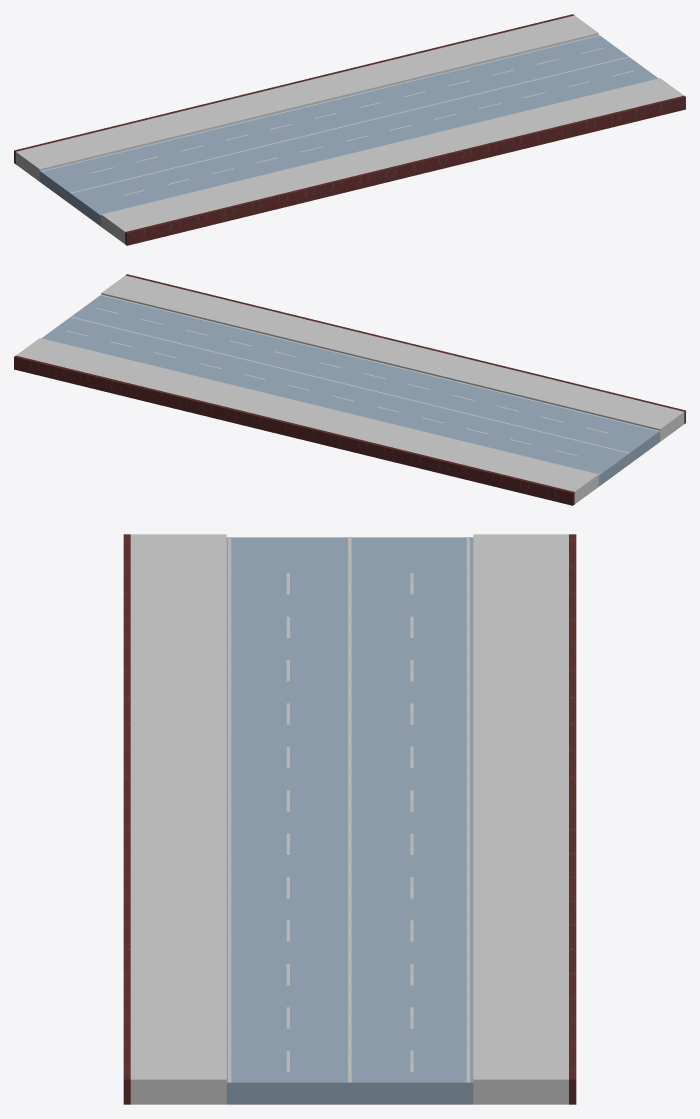
The model's file is Bridge_002.fbx.
The picture shows the model from 3 angles, top to bottom: view 1: azimuth 30°, elevation 25°; view 2: azimuth 150°, elevation 25°; view 3: azimuth 270°, elevation 25°; orthographic projection. The views are drawn at different scales.
Parts seen in each view (by area): view 1: Bridge_002; view 2: Bridge_002; view 3: Bridge_002.
Boxes of the visible parts, x1,y1,x2,y2 form: Bridge_002: (14, 14, 685, 245); Bridge_002: (14, 274, 685, 505); Bridge_002: (123, 534, 576, 1104).
Size of the model in its own units: 6281 by 135 by 2202.
